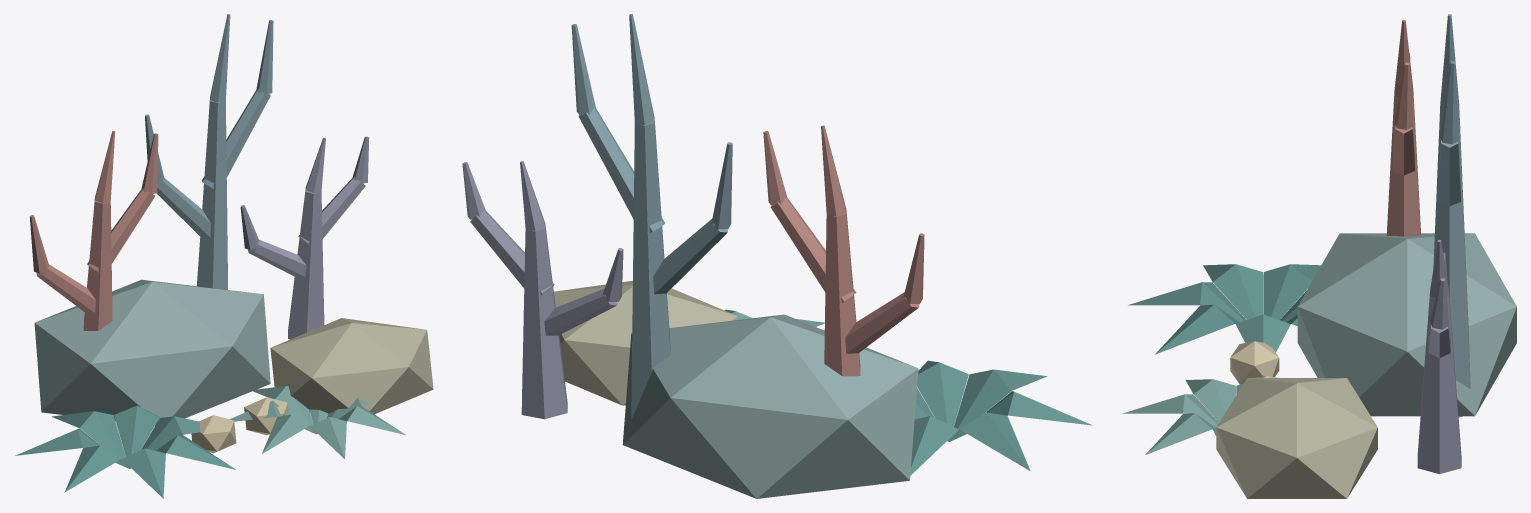
Rendered from xingyin-environment-v2__tide_coral_garden.glb.
The picture shows the model from 3 angles, left to right: view 1: azimuth 30°, elevation 25°; view 2: azimuth 150°, elevation 25°; view 3: azimuth 270°, elevation 25°; orthographic projection. The views are drawn at different scales.
Visible parts, largest first — view 1: tide_coral_garden; view 2: tide_coral_garden; view 3: tide_coral_garden.
Part boxes in pixels (x1=…): tide_coral_garden: x1=15, y1=14, x2=433, y2=498; tide_coral_garden: x1=462, y1=14, x2=1092, y2=498; tide_coral_garden: x1=1123, y1=14, x2=1516, y2=498.
Size of the model in its own units: 3.31 by 2.94 by 2.33.
